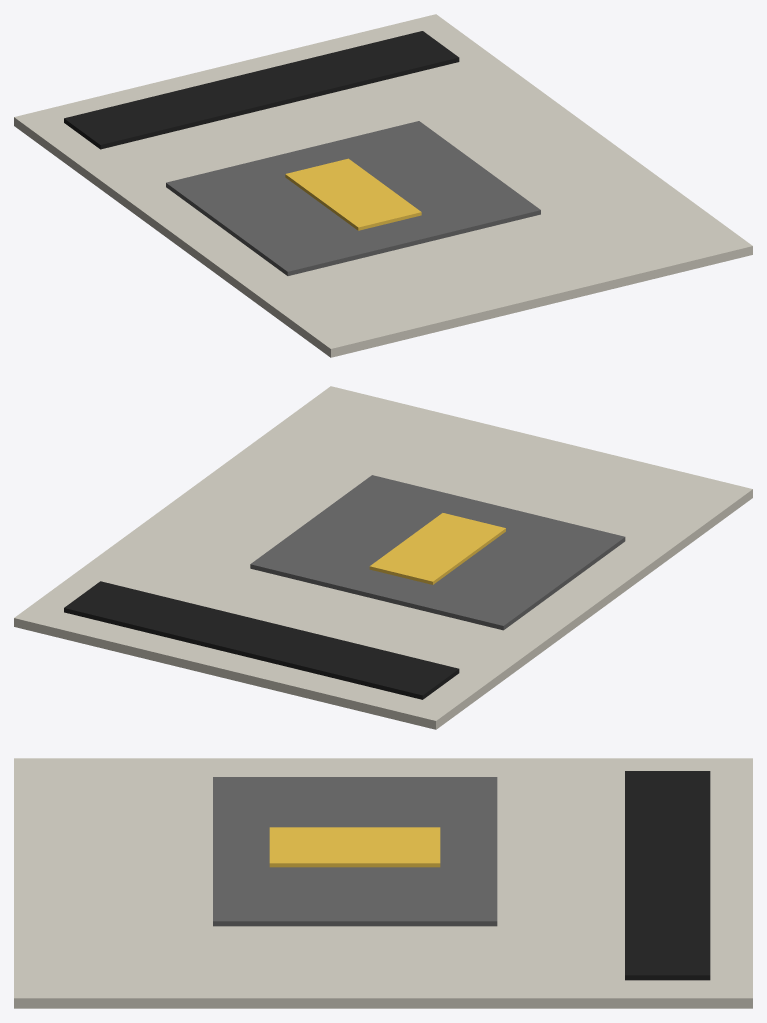
The model's file is rink_trophy_clipping.glb.
The picture shows the model from 3 angles, top to bottom: view 1: azimuth 30°, elevation 25°; view 2: azimuth 150°, elevation 25°; view 3: azimuth 270°, elevation 25°; orthographic projection. The views are drawn at different scales.
Visible parts, largest first — view 1: paper_clipping_paper, photo_clipping_photo, headline_clipping_ink, skate_golden_skate_gold; view 2: paper_clipping_paper, photo_clipping_photo, headline_clipping_ink, skate_golden_skate_gold; view 3: paper_clipping_paper, photo_clipping_photo, headline_clipping_ink, skate_golden_skate_gold.
Boxes of the visible parts, box(x1,y1,x2,y2) form: paper_clipping_paper: box(14, 14, 752, 357); photo_clipping_photo: box(166, 121, 540, 275); headline_clipping_ink: box(64, 31, 459, 149); skate_golden_skate_gold: box(285, 158, 421, 230); paper_clipping_paper: box(14, 386, 752, 729); photo_clipping_photo: box(250, 475, 625, 630); headline_clipping_ink: box(64, 581, 459, 699); skate_golden_skate_gold: box(369, 513, 505, 584); paper_clipping_paper: box(14, 758, 752, 1008); photo_clipping_photo: box(213, 777, 497, 926); headline_clipping_ink: box(625, 771, 710, 980); skate_golden_skate_gold: box(269, 827, 440, 867).
Size of the model in its own units: 0.2 by 0.0075 by 0.26.
